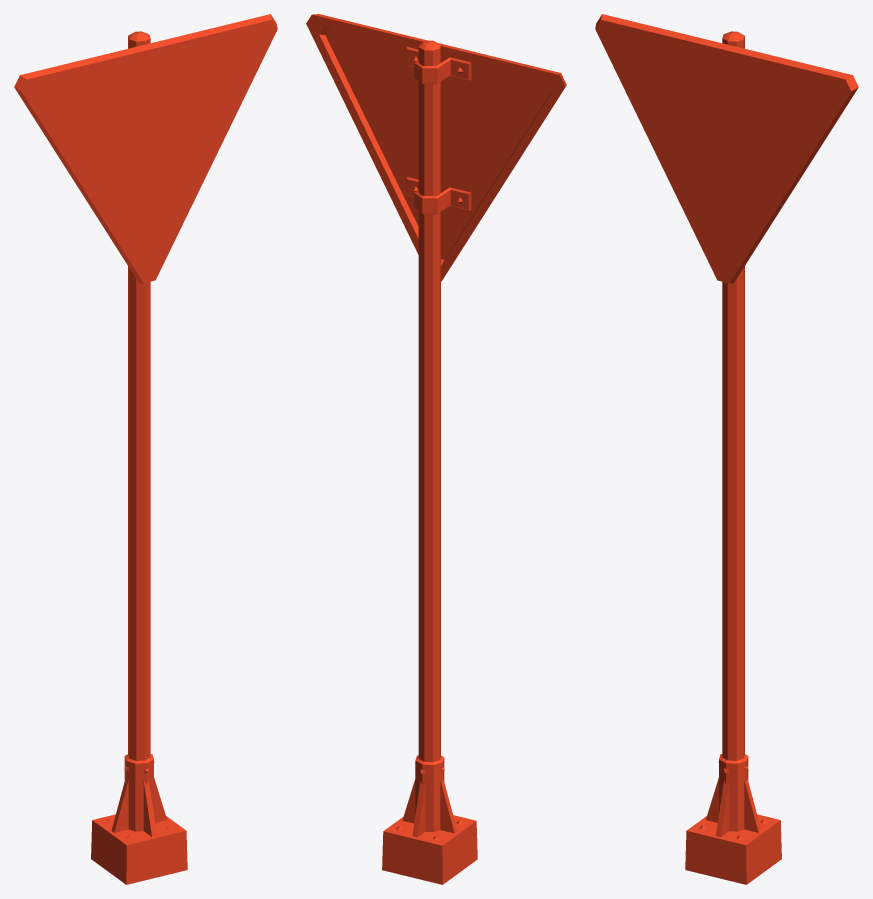
File: SM_Sign_Yield_B_City.fbx
The picture shows the model from 3 angles, left to right: view 1: azimuth 30°, elevation 25°; view 2: azimuth 150°, elevation 25°; view 3: azimuth 330°, elevation 25°; orthographic projection.
Visible parts, largest first — view 1: SM_Sign_Yield_B_City; view 2: SM_Sign_Yield_B_City; view 3: SM_Sign_Yield_B_City.
Part boxes in pixels (box(x1,y1,x2,y2)): SM_Sign_Yield_B_City: box(14, 14, 277, 884); SM_Sign_Yield_B_City: box(306, 14, 566, 884); SM_Sign_Yield_B_City: box(595, 14, 858, 884).
Bounding box in the file's own units: 0.7868 × 2.38 × 0.1839.
